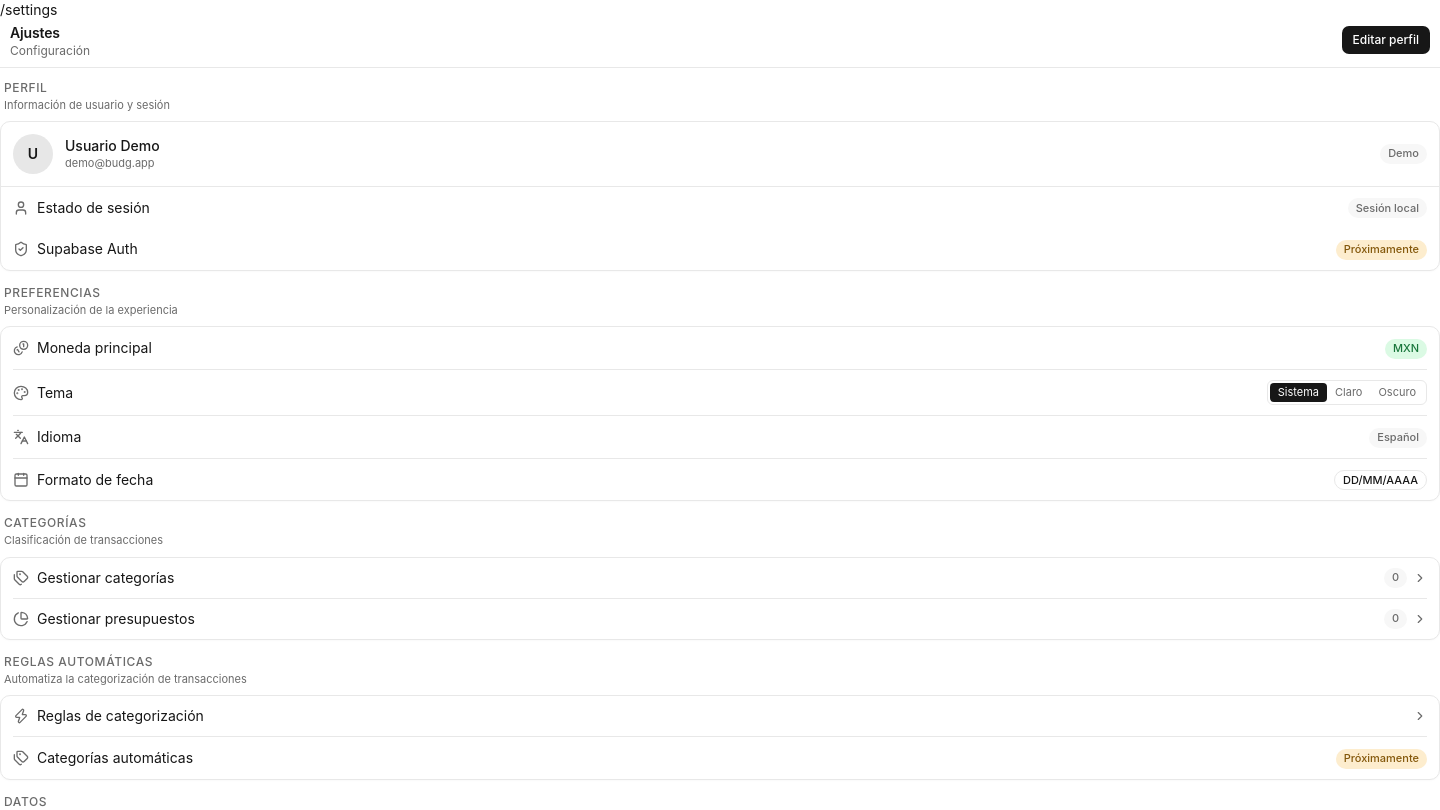
Test: SettingsPage › shows anonymous defaults and zero counts after successful empty queries
Expected: the text "Usuario Demo" is shown, [65,137,160,154]
Expected: the text "demo@budg.app" is shown, [65,156,154,170]
Click the button "Editar perfil" at (1386, 40), box [1342,26,1430,54]
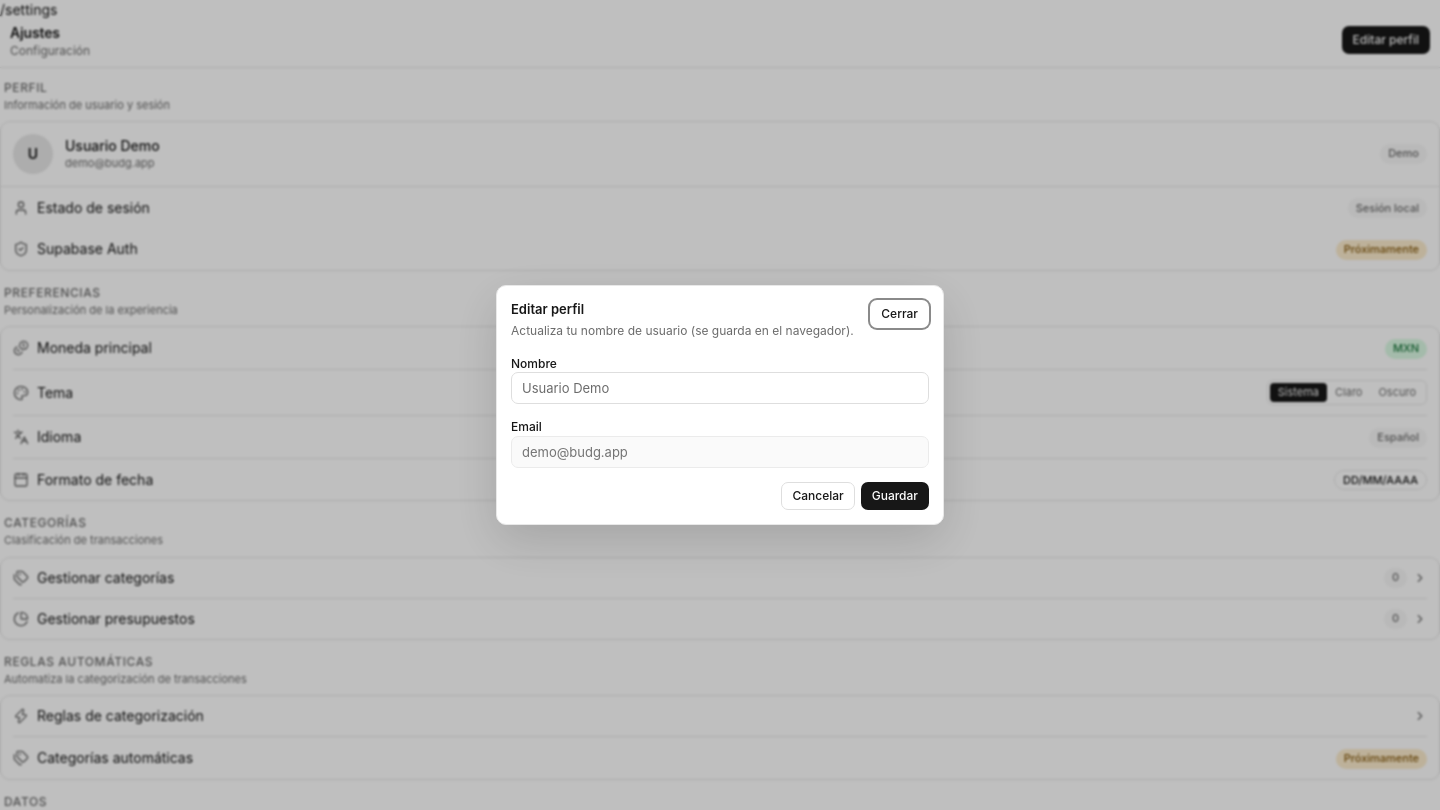
Expected: the field with placeholder "Usuario Demo" is empty, [511,372,929,404]
Expected: the field showing "demo@budg.app" is disabled, [511,436,929,468]
